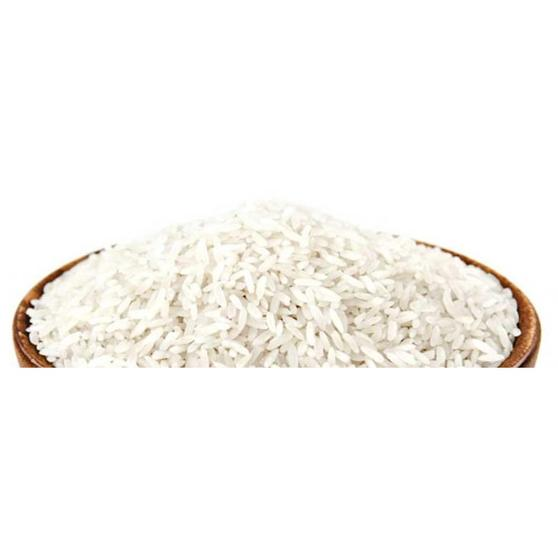rice: (21, 202, 527, 373)
